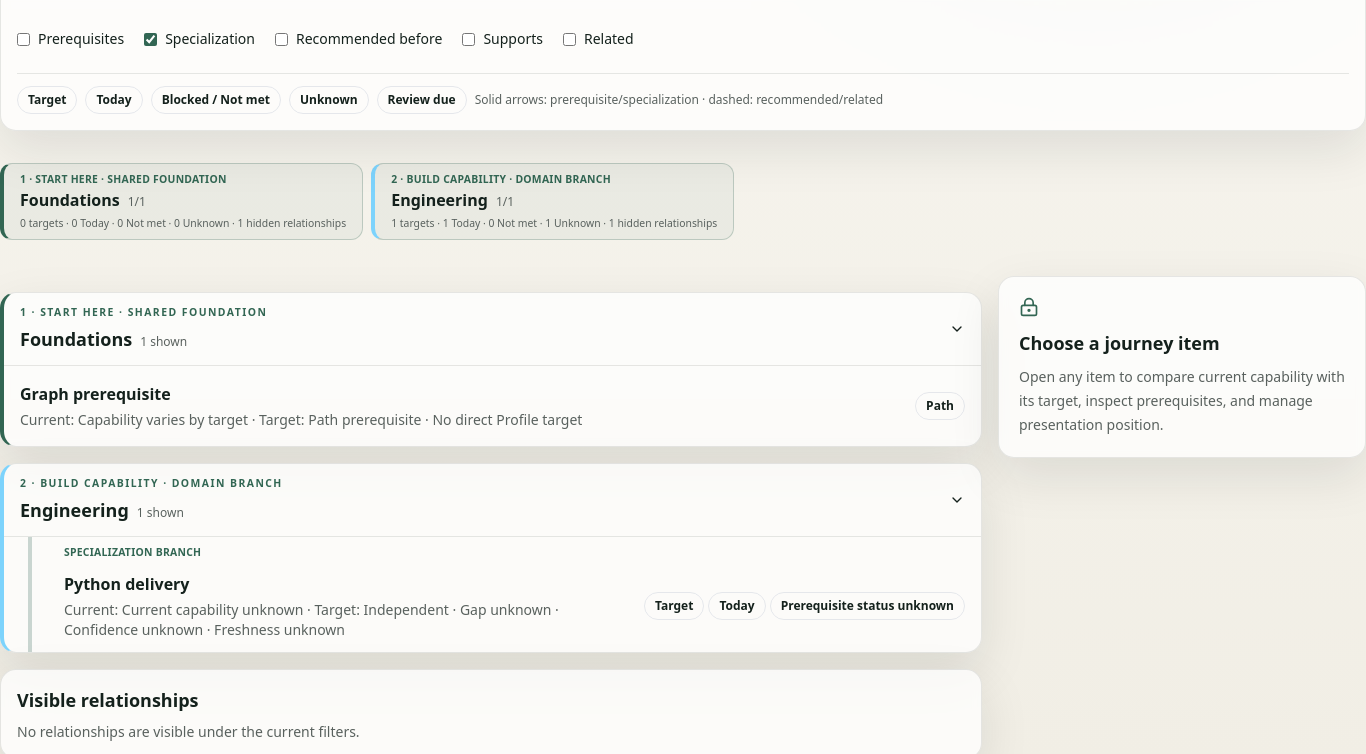
Roadmap learning journey › presents synchronized human-readable journey facts and complete focused prerequisites
(page scrolled)
What coordinates should you click on to do the following:
click the button "Python delivery"
I would click on:
 (514, 606)
Its box is [48,560,981,652].
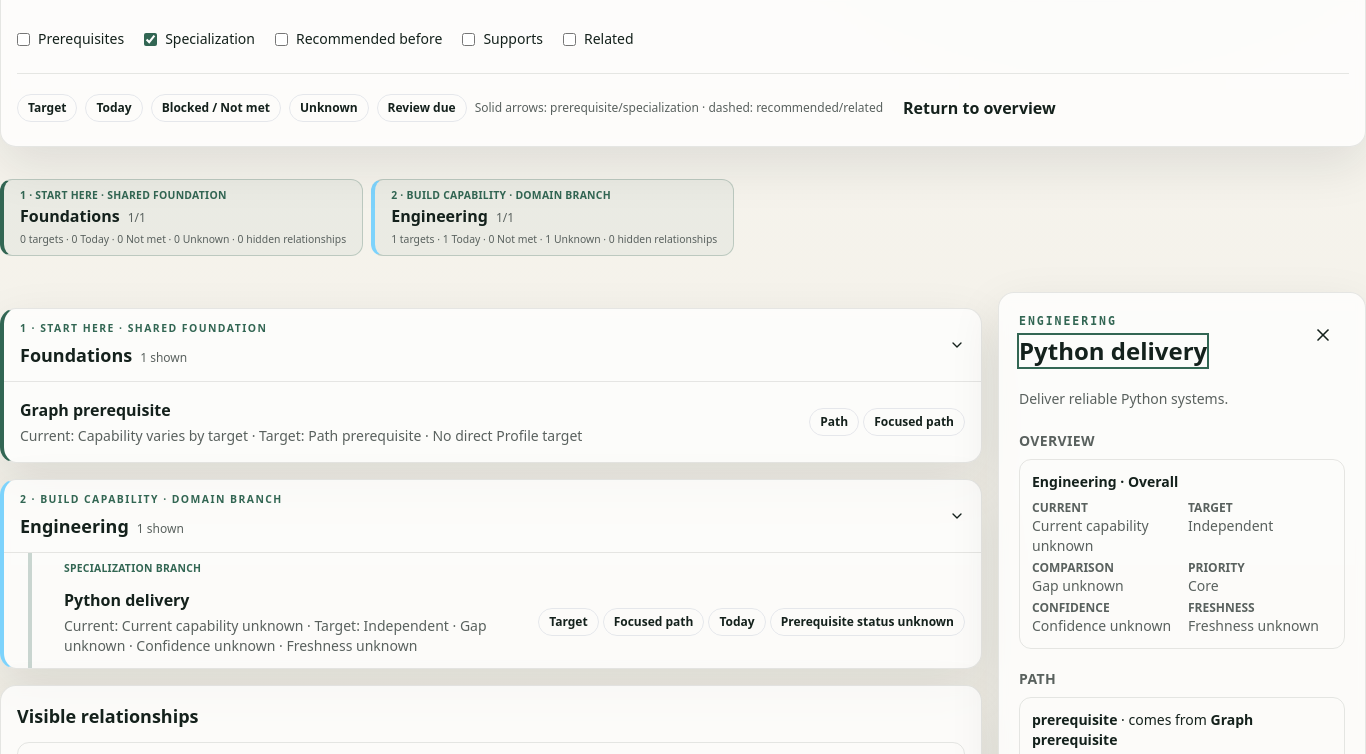
Expected: the 1st text "Graph prerequisite" is shown, [20,399,171,421]
Now the text "Current capability unknown" is shown, box [1032,516,1149,555]
